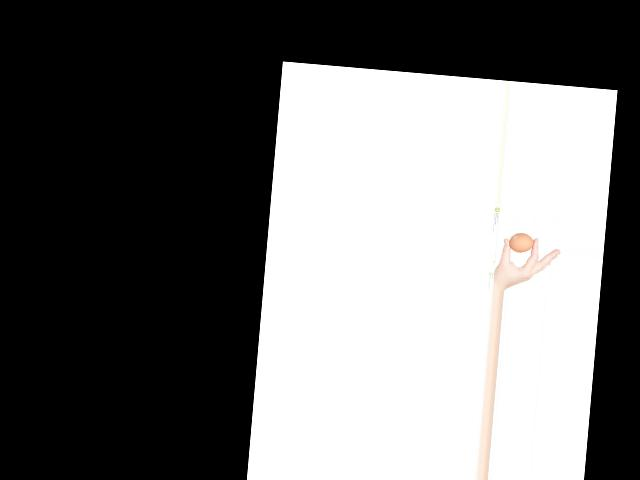egg: (507, 232, 534, 254)
